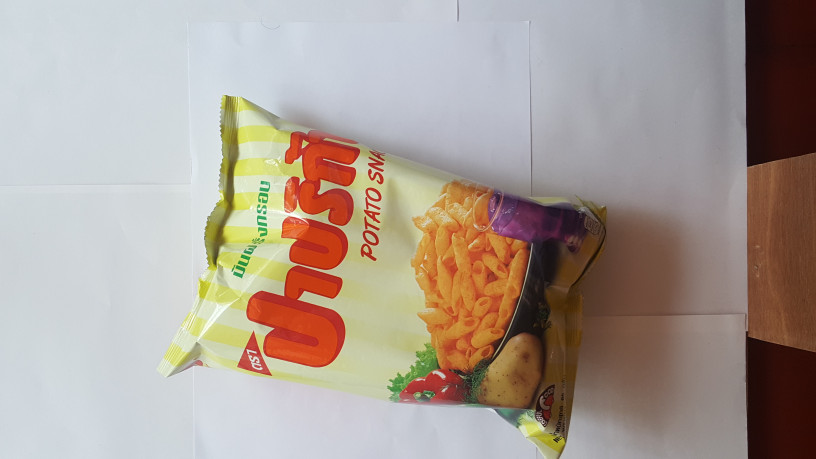paprika: (144, 92, 609, 459)
